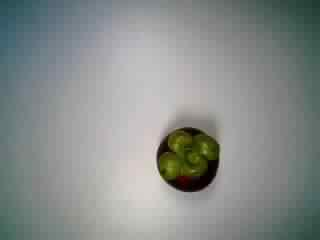mangosteen: (151, 120, 225, 192)
